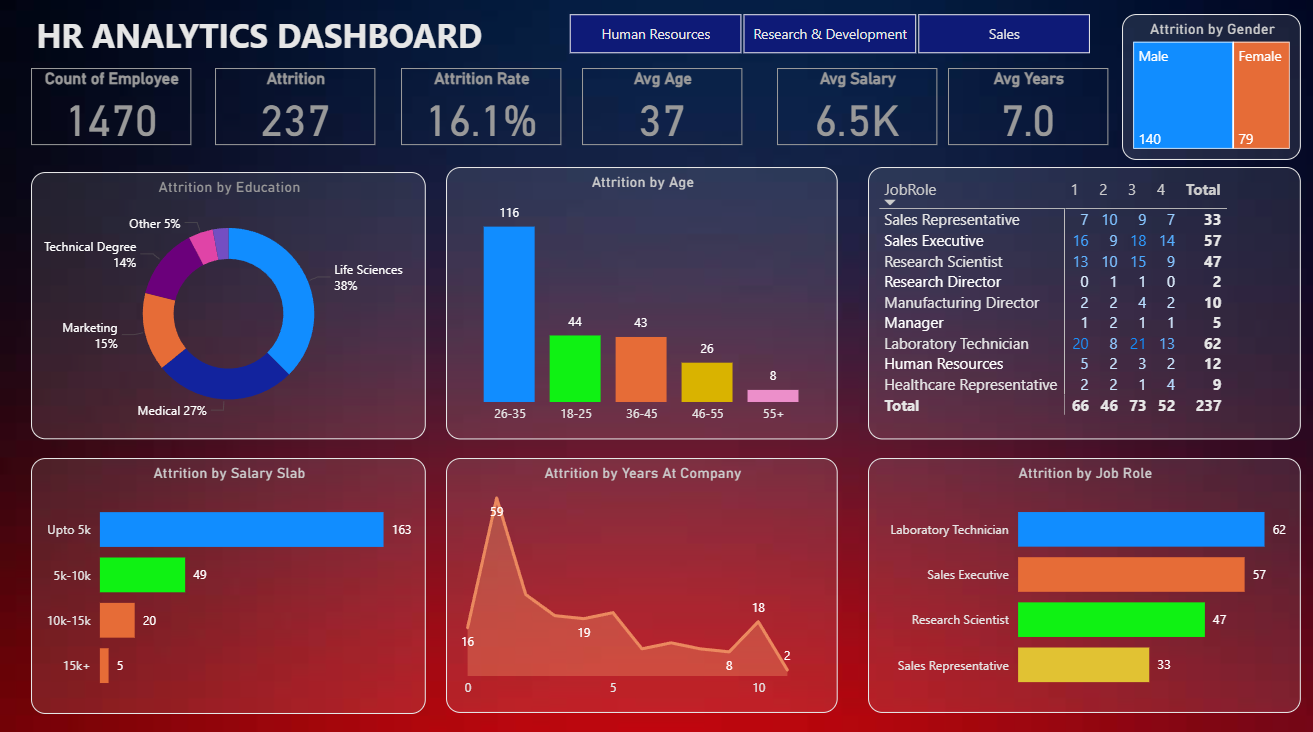

Layout of this report page (visuals, bound fields, positions):
{"tool":"powerbi","page":{"name":"Page 1","canvas":[1280,720],"ordinal":0},"visuals":[{"type":"card","title":"Count of Employee","fields":{"Values":["CountNonNull(HR_Analytics.EmpID)"]},"box":[31.1,71,155.6,74.9],"z":0},{"type":"card","title":"Attrition","fields":{"Values":["Sum(HR_Analytics.AttritionCount)"]},"box":[210.1,71,155.6,74.9],"z":1000},{"type":"card","title":"Attrition Rate","fields":{"Values":["HR_Analytics.AttritionRate"]},"box":[391,71,155.6,74.9],"z":2000},{"type":"card","title":"Avg Age","fields":{"Values":["Avg(HR_Analytics.Age)"]},"box":[567.1,71,155.6,74.9],"z":3000},{"type":"card","title":"Avg Years","fields":{"Values":["Avg(HR_Analytics.YearsAtCompany)"]},"box":[923,71,155.6,74.9],"z":4000},{"type":"card","title":"Avg Salary","fields":{"Values":["Avg(HR_Analytics.MonthlyIncome)"]},"box":[756.7,71,155.6,74.9],"z":5000},{"type":"donutChart","title":"Attrition by Education","fields":{"Category":["HR_Analytics.EducationField"],"Y":["Sum(HR_Analytics.AttritionCount)"]},"box":[31.1,172.2,384.2,259.7],"z":6000},{"type":"columnChart","title":"Attrition by Age","fields":{"Category":["HR_Analytics.AgeGroup"],"Y":["Sum(HR_Analytics.AttritionCount)"]},"box":[434.8,167.3,381.3,264.6],"z":7000},{"type":"pivotTable","fields":{"Rows":["HR_Analytics.JobRole"],"Columns":["HR_Analytics.JobSatisfaction"],"Values":["Sum(HR_Analytics.AttritionCount)"]},"box":[845.2,167.3,421.2,264.6],"z":8000},{"type":"barChart","title":"Attrition by Salary Slab","fields":{"Category":["HR_Analytics.SalarySlab"],"Y":["Sum(HR_Analytics.AttritionCount)"]},"box":[31.1,450.3,384.2,249],"z":9000},{"type":"barChart","title":"Attrition by Job Role","fields":{"Category":["HR_Analytics.JobRole"],"Y":["Sum(HR_Analytics.AttritionCount)"]},"box":[845.2,450.3,421.2,248],"z":10000},{"type":"areaChart","title":"Attrition by Years At Company","fields":{"Category":["HR_Analytics.YearsAtCompany"],"Y":["Sum(HR_Analytics.AttritionCount)"]},"box":[434.8,450.3,381.3,248],"z":11000},{"type":"treemap","title":"Attrition by Gender","fields":{"Group":["HR_Analytics.Gender"],"Values":["Sum(HR_Analytics.AttritionCount)"]},"box":[1092.3,18.5,174.1,142],"z":12000},{"type":"slicer","fields":{"Values":["HR_Analytics.Department"]},"box":[529.1,11.7,556.4,51.6],"z":13000},{"type":"textbox","box":[31.1,11.7,515.5,59.3],"z":14000}]}

Visuals, with their boxes in screenshot pixels (x1, y1, x2, y2), scaled from the page's 1280x720 canvas onto the 1313x732 screenshot:
"Count of Employee" card: x1=32 y1=72 x2=192 y2=148
"Attrition" card: x1=216 y1=72 x2=375 y2=148
"Attrition Rate" card: x1=401 y1=72 x2=561 y2=148
"Avg Age" card: x1=582 y1=72 x2=741 y2=148
"Avg Years" card: x1=947 y1=72 x2=1106 y2=148
"Avg Salary" card: x1=776 y1=72 x2=936 y2=148
"Attrition by Education" donutChart: x1=32 y1=175 x2=426 y2=439
"Attrition by Age" columnChart: x1=446 y1=170 x2=837 y2=439
pivotTable - HR_Analytics.JobRole x HR_Analytics.JobSatisfaction: x1=867 y1=170 x2=1299 y2=439
"Attrition by Salary Slab" barChart: x1=32 y1=458 x2=426 y2=711
"Attrition by Job Role" barChart: x1=867 y1=458 x2=1299 y2=710
"Attrition by Years At Company" areaChart: x1=446 y1=458 x2=837 y2=710
"Attrition by Gender" treemap: x1=1120 y1=19 x2=1299 y2=163
slicer - HR_Analytics.Department: x1=543 y1=12 x2=1113 y2=64
textbox: x1=32 y1=12 x2=561 y2=72
